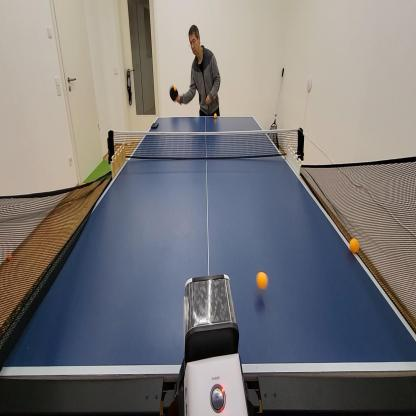Ball: (257, 272, 268, 290), (350, 238, 360, 254), (6, 252, 12, 260), (67, 199, 72, 205), (214, 112, 217, 117), (174, 86, 176, 92)
